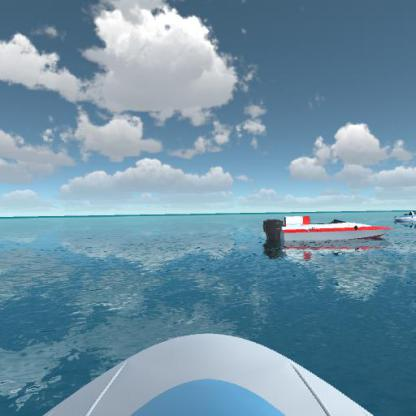usv1: (392, 208, 416, 228)
usv3: (261, 210, 395, 258)
